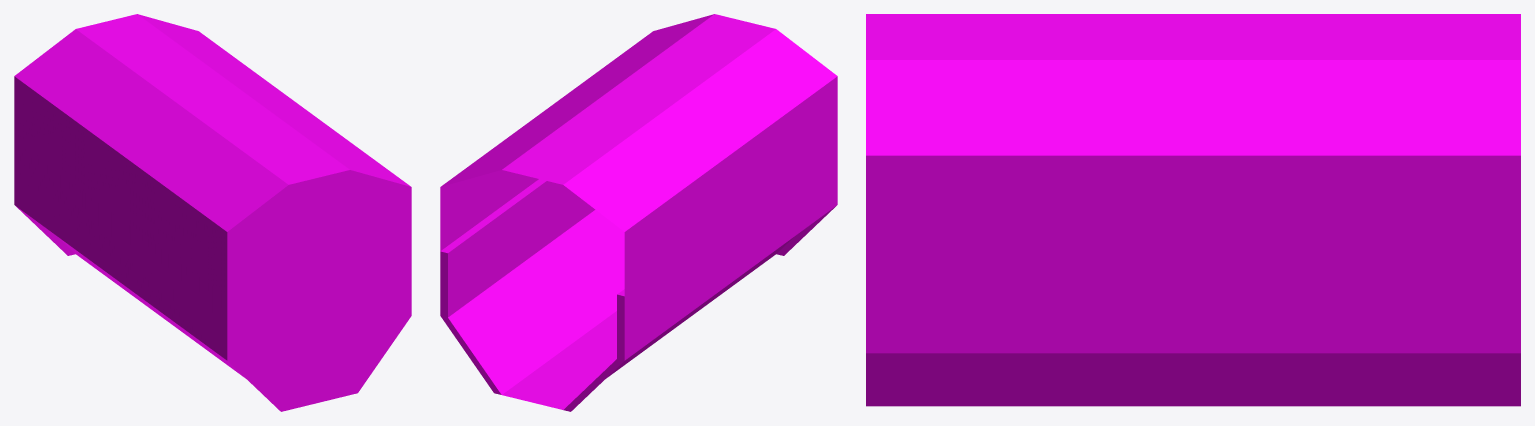
The model's file is cave tubetrap.obj.
3 renders of one model, left to right at view 1: azimuth 30°, elevation 25°; view 2: azimuth 150°, elevation 25°; view 3: azimuth 270°, elevation 25°, orthographic. The views are drawn at different scales.
Visible parts, largest first — view 1: cave tubetrap_back; view 2: cave tubetrap_back; view 3: cave tubetrap_back.
Boxes of the visible parts, x1,y1,x2,y2 form: cave tubetrap_back: (14,14,411,411); cave tubetrap_back: (440,14,837,411); cave tubetrap_back: (866,14,1520,406).
Bounding box in the file's own units: 3.84 × 4.48 × 7.68.
